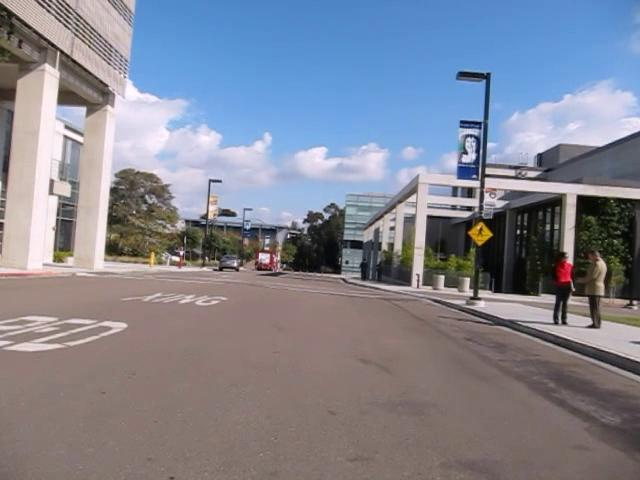pedestrianCrossing: (467, 219, 494, 246)
